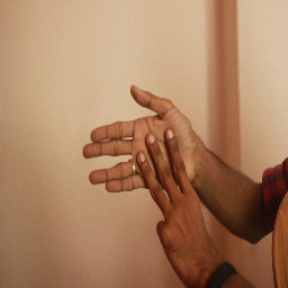M: (81, 82, 209, 227)
